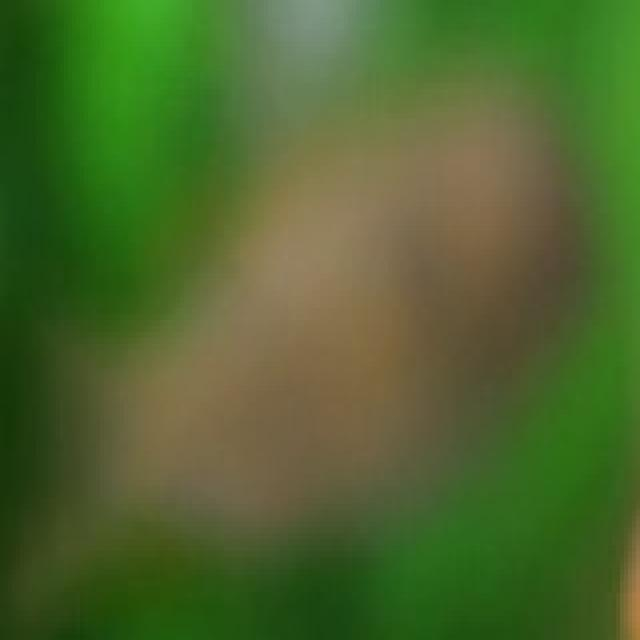fish: (0, 6, 636, 640)
